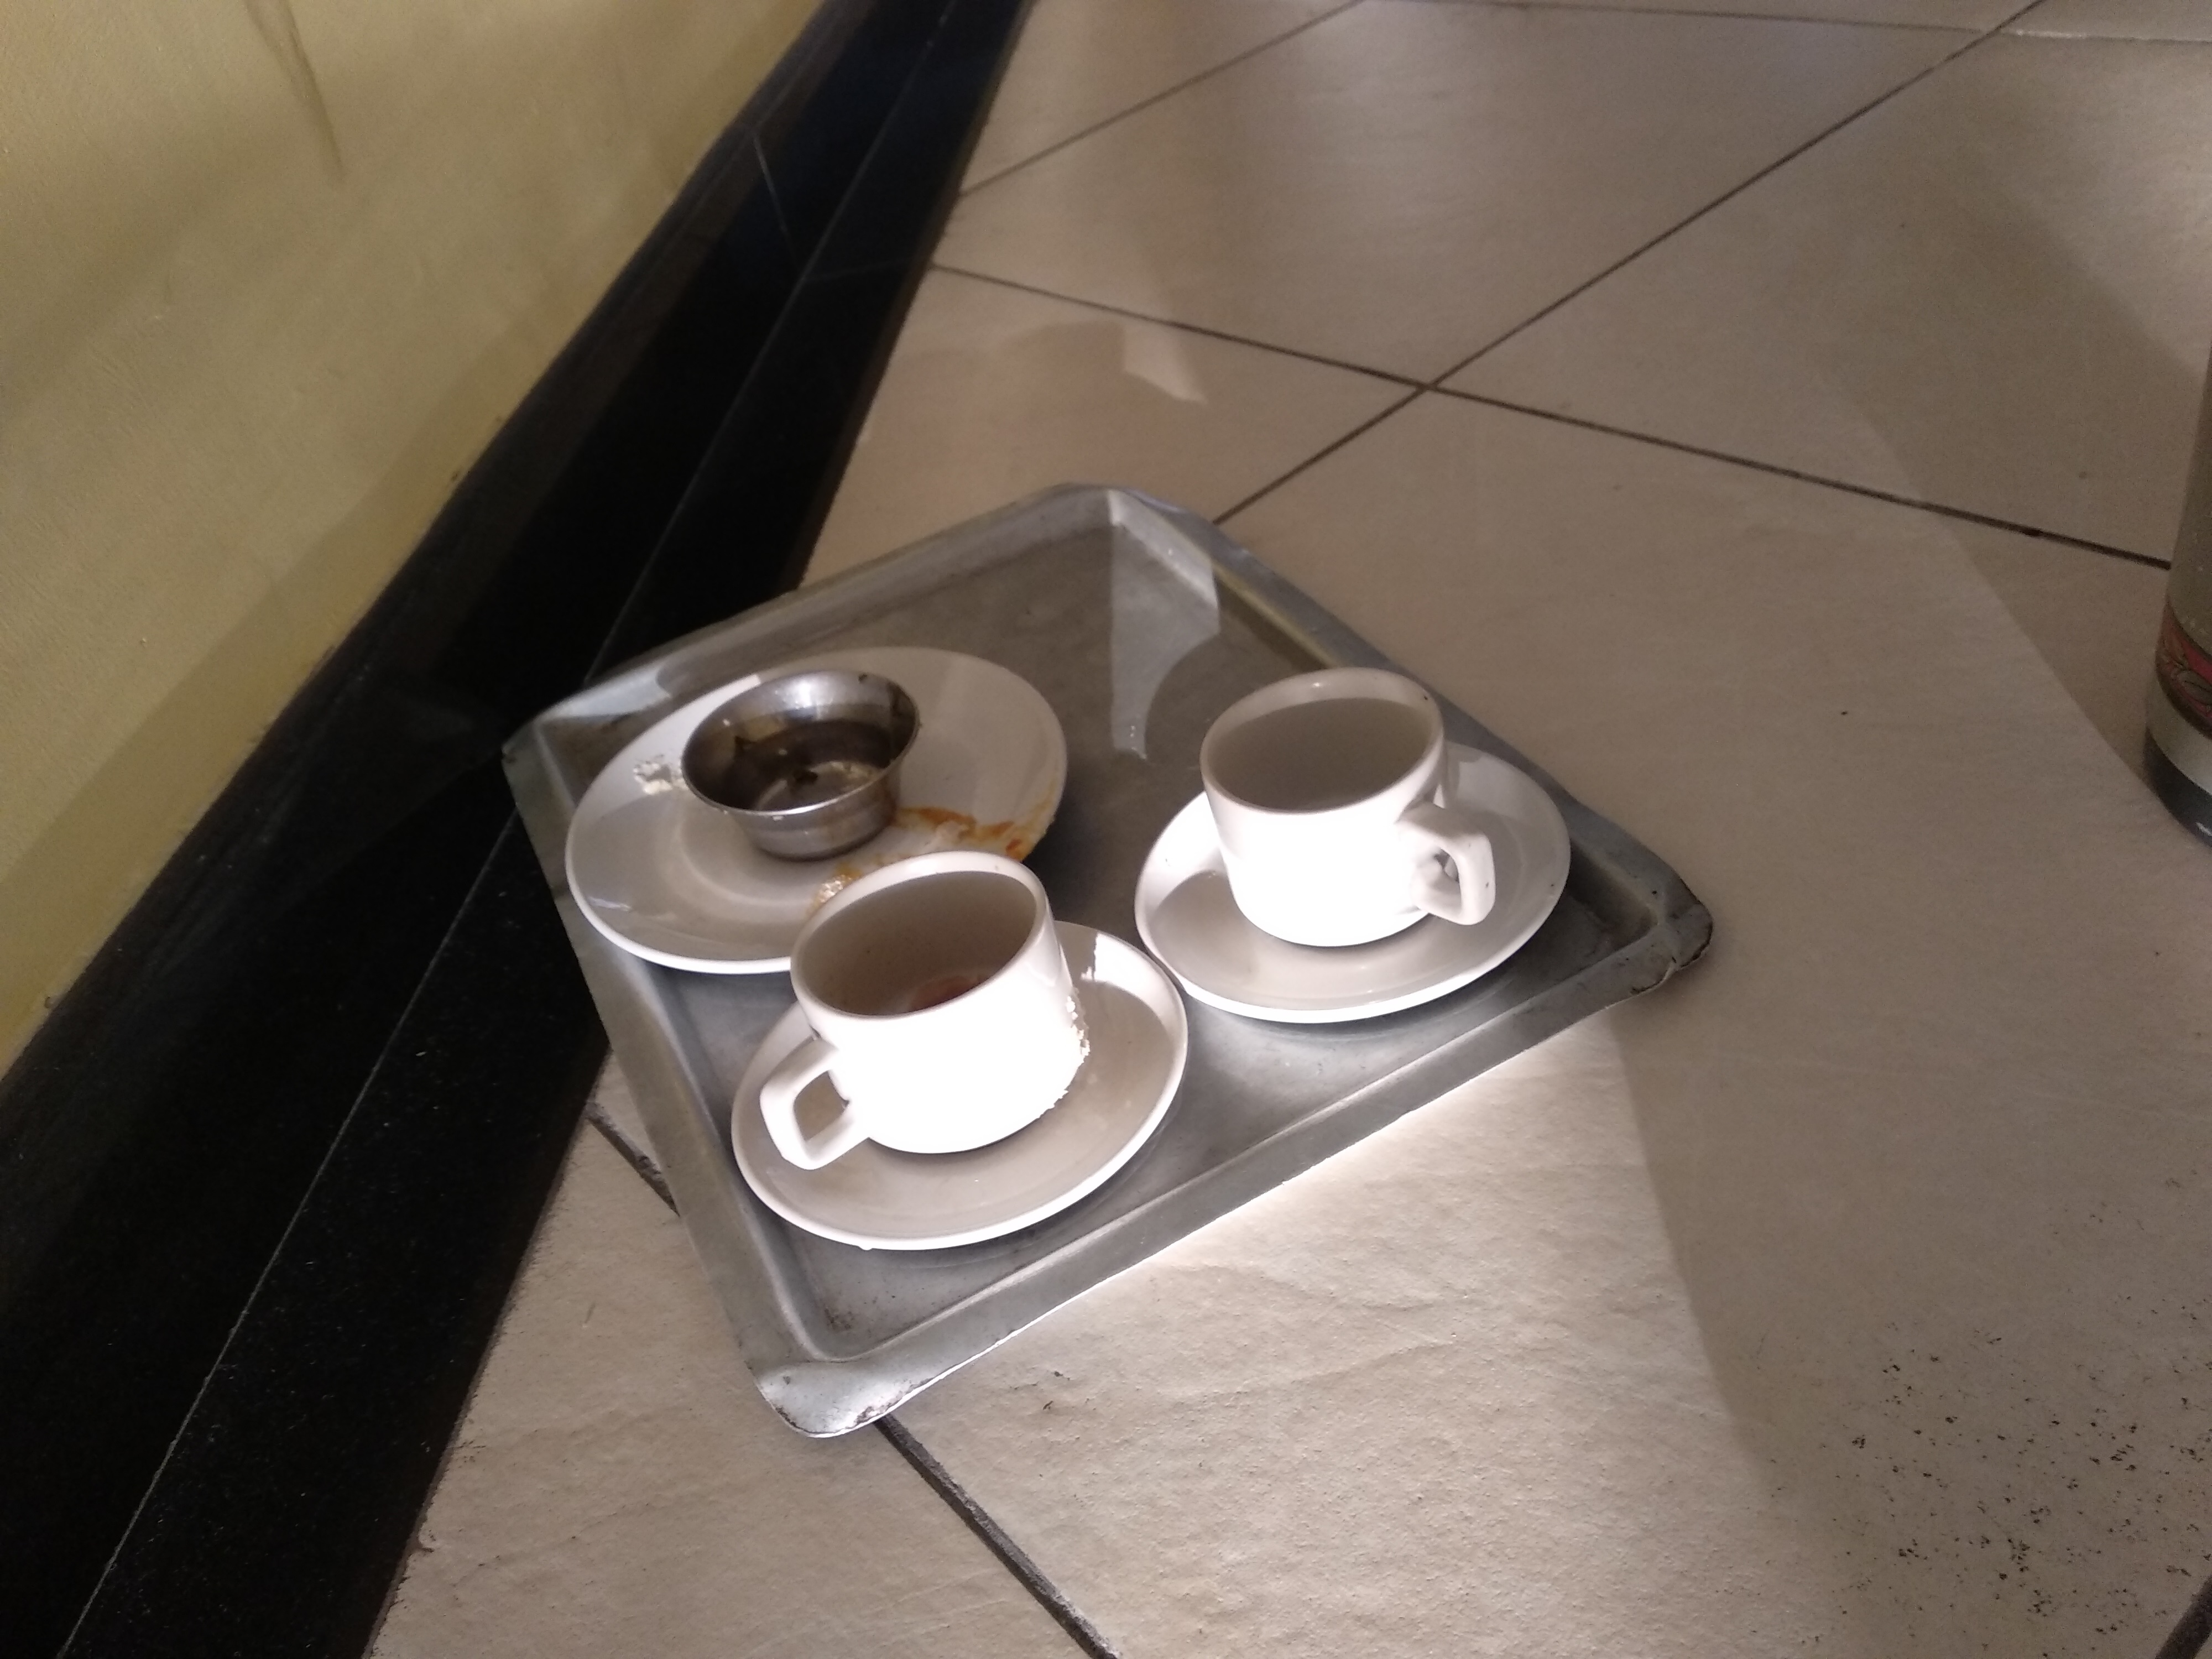CUP: (768, 836, 1082, 1178), (1186, 643, 1503, 953), (686, 653, 920, 830)
